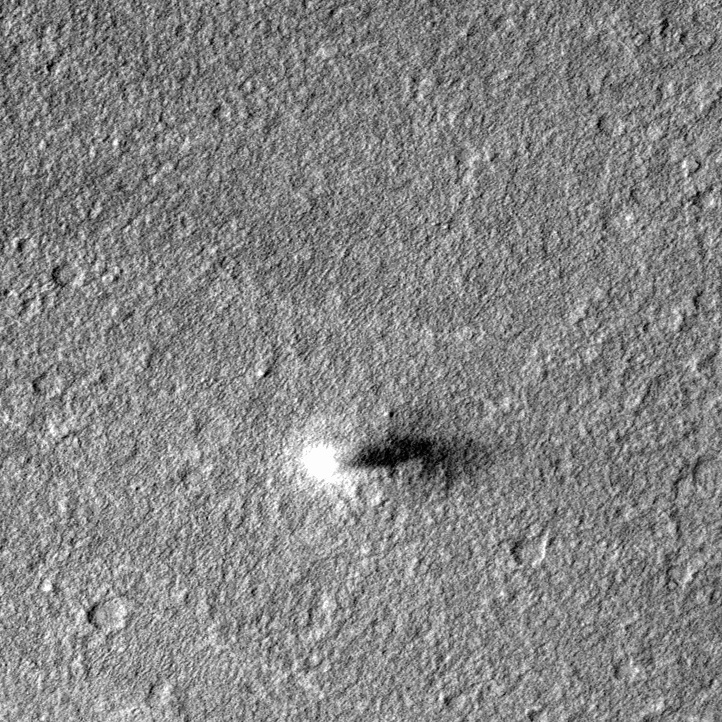dust_devil: (298, 427, 493, 489)
